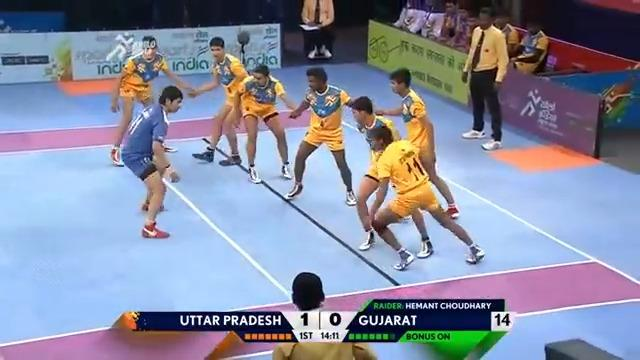Player: (355, 124, 486, 271), (372, 66, 461, 220), (106, 33, 195, 167), (284, 64, 360, 207), (186, 34, 249, 166), (230, 62, 298, 184)
Raider: (118, 83, 188, 240)
referee: (271, 271, 377, 359), (460, 7, 509, 150), (298, 0, 335, 60)
